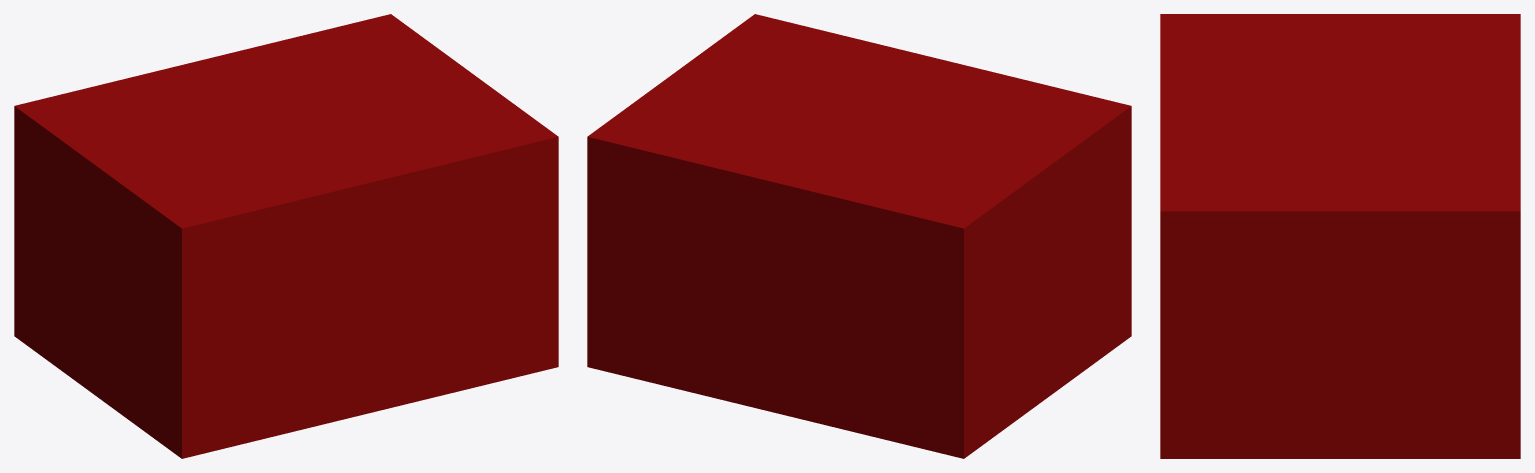
Rendered from plpath.FBX.
The picture shows the model from 3 angles, left to right: view 1: azimuth 30°, elevation 25°; view 2: azimuth 150°, elevation 25°; view 3: azimuth 270°, elevation 25°; orthographic projection. The views are drawn at different scales.
Parts seen in each view (by area): view 1: Box001; view 2: Box001; view 3: Box001.
Boxes of the visible parts, x1,y1,x2,y2 form: Box001: (14,14,558,458); Box001: (587,14,1131,458); Box001: (1160,14,1520,458).
Size of the model in its own units: 15.87 by 9.27 by 12.24.
1 material, 1 textured.
